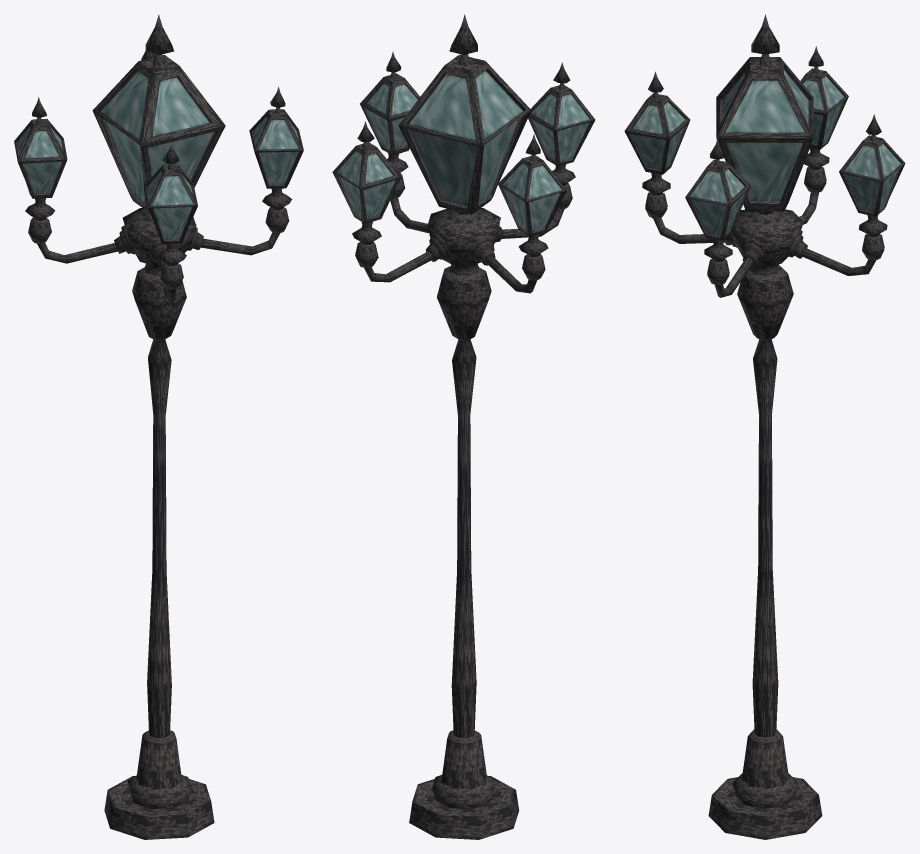
File: STLamp.obj
3 views of the same model, side by side, from view 1: azimuth 30°, elevation 25°; view 2: azimuth 150°, elevation 25°; view 3: azimuth 270°, elevation 25° (orthographic).
Parts seen in each view (by area): view 1: metal, glass; view 2: metal, glass; view 3: metal, glass.
Boxes of the visible parts, left/top/right/bottom form: metal: left=14, top=14, right=303, bottom=839; glass: left=17, top=71, right=298, bottom=239; metal: left=332, top=14, right=595, bottom=839; glass: left=337, top=71, right=589, bottom=231; metal: left=624, top=14, right=905, bottom=839; glass: left=630, top=70, right=901, bottom=236.
Size of the model in its own units: 1.27 by 4 by 1.27.
2 materials, 2 textured.
